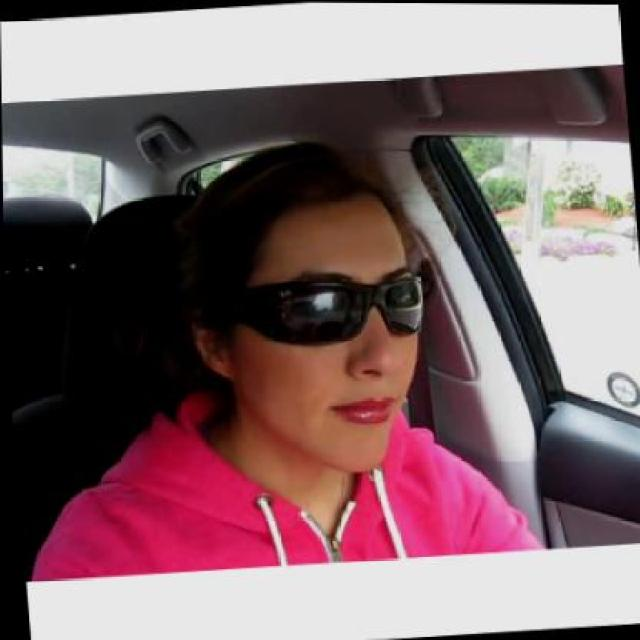attentif: (175, 128, 437, 484)
